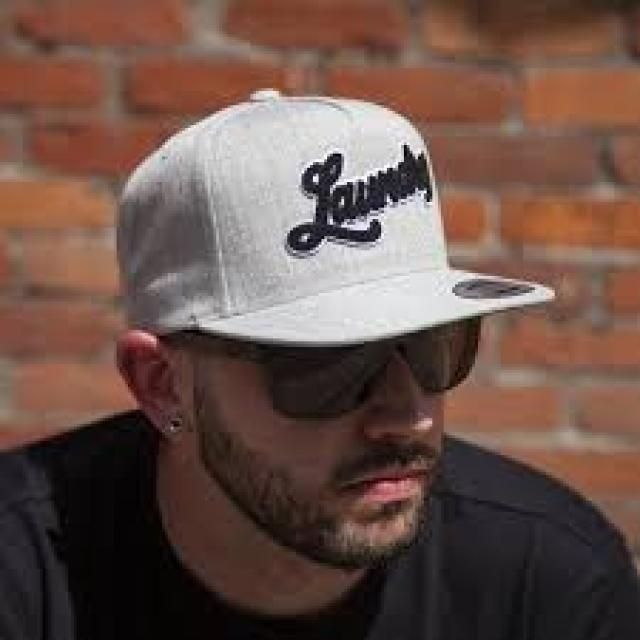cap: (80, 83, 586, 435)
